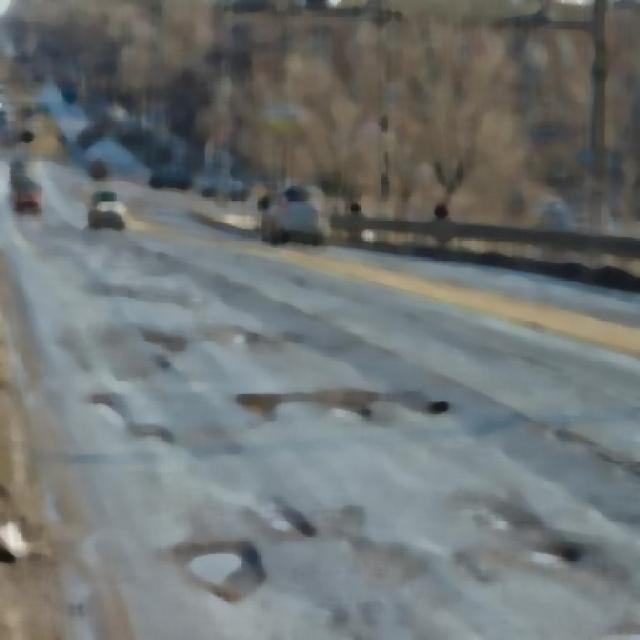Pothole: (252, 375, 471, 439), (466, 492, 571, 590), (178, 520, 287, 588)
